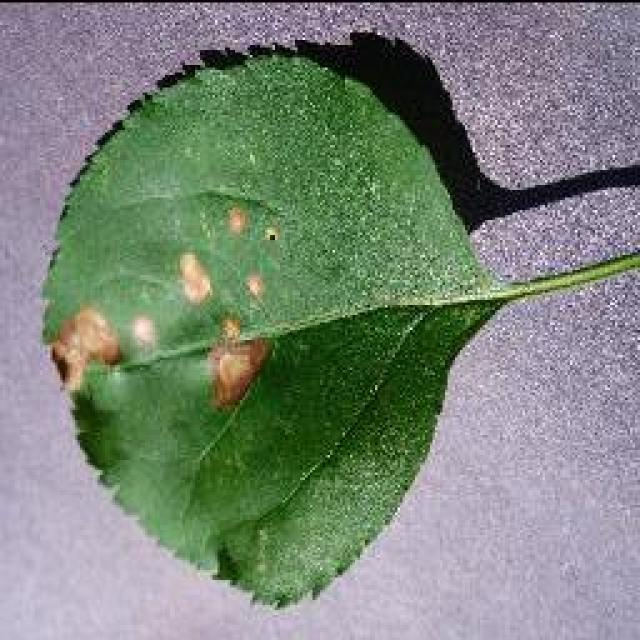Apple___Black_rot: (37, 52, 514, 616)
